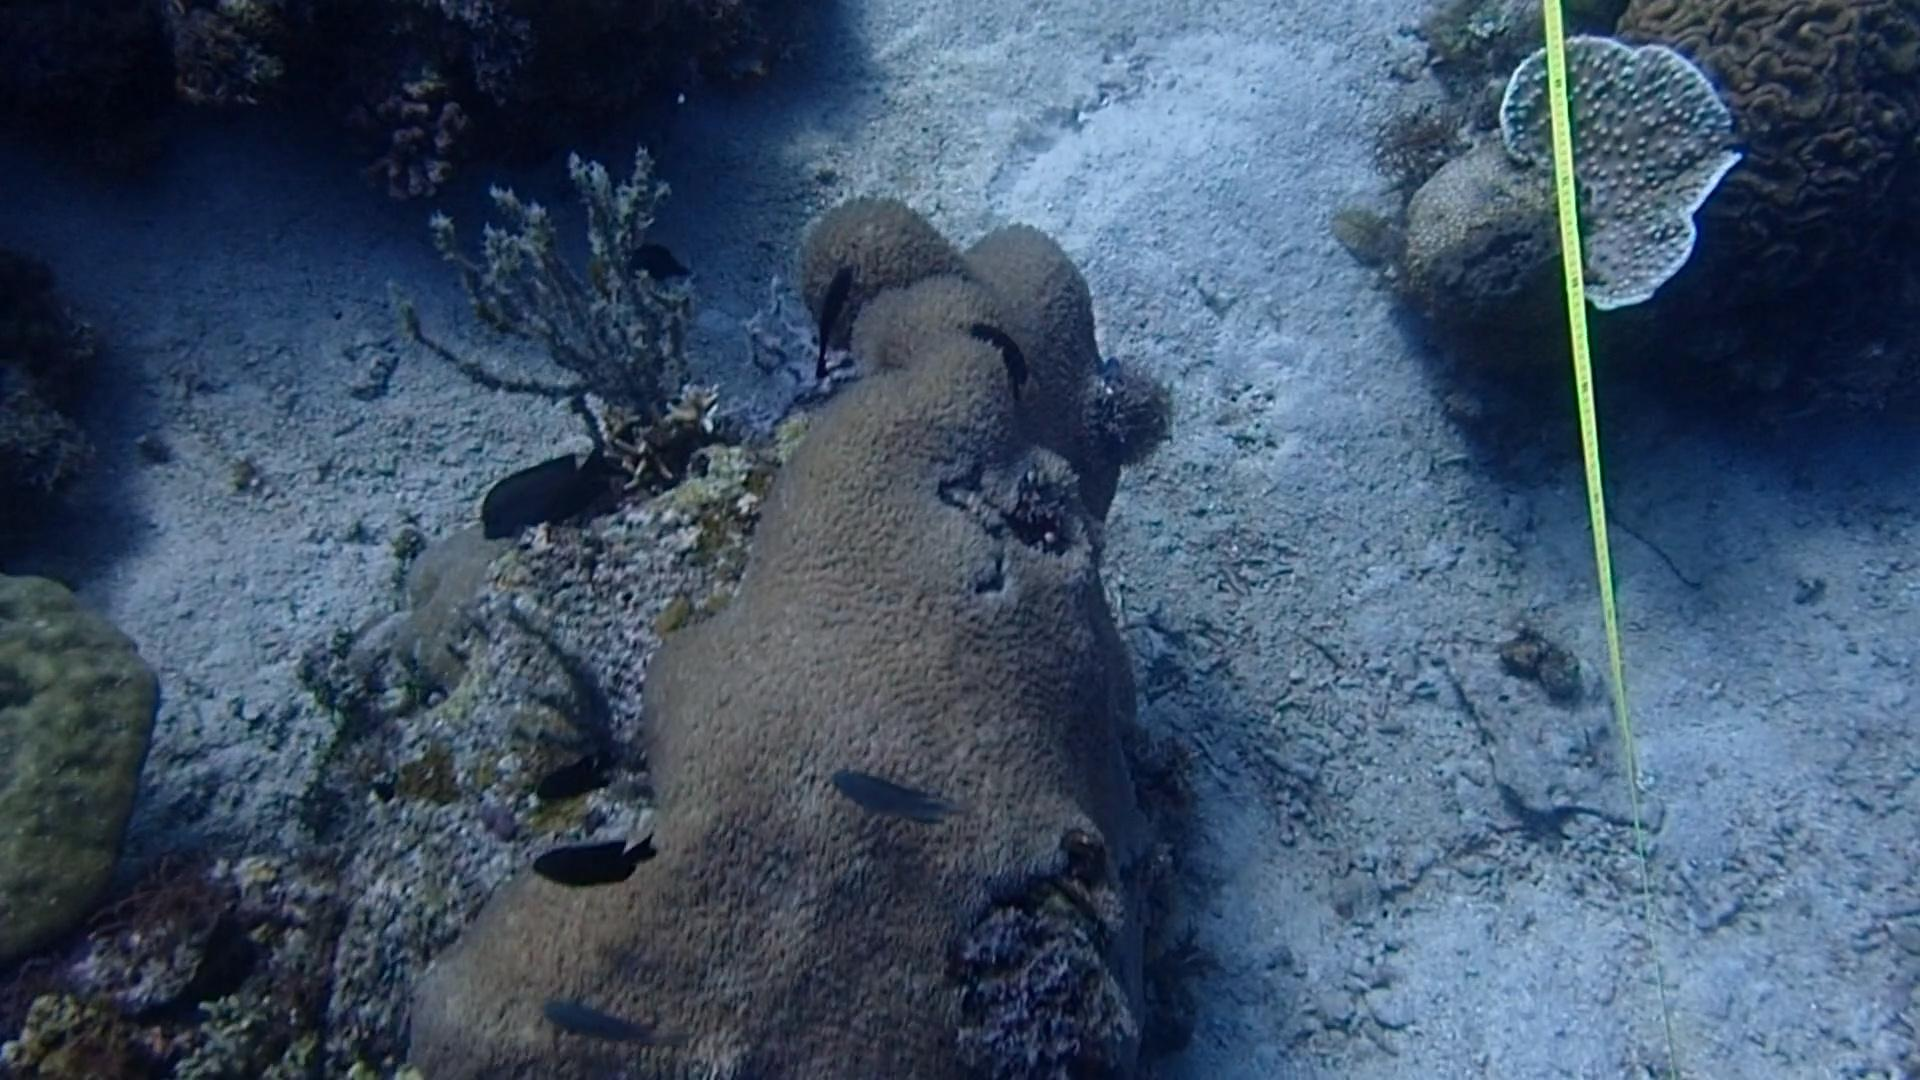Big Dark Blue Fish: (463, 440, 621, 546)
Dark Fish: (508, 819, 667, 898), (527, 740, 628, 811), (793, 256, 866, 348), (618, 225, 700, 298), (964, 309, 1040, 384)
Light Fish: (824, 764, 960, 836), (530, 990, 678, 1052)
